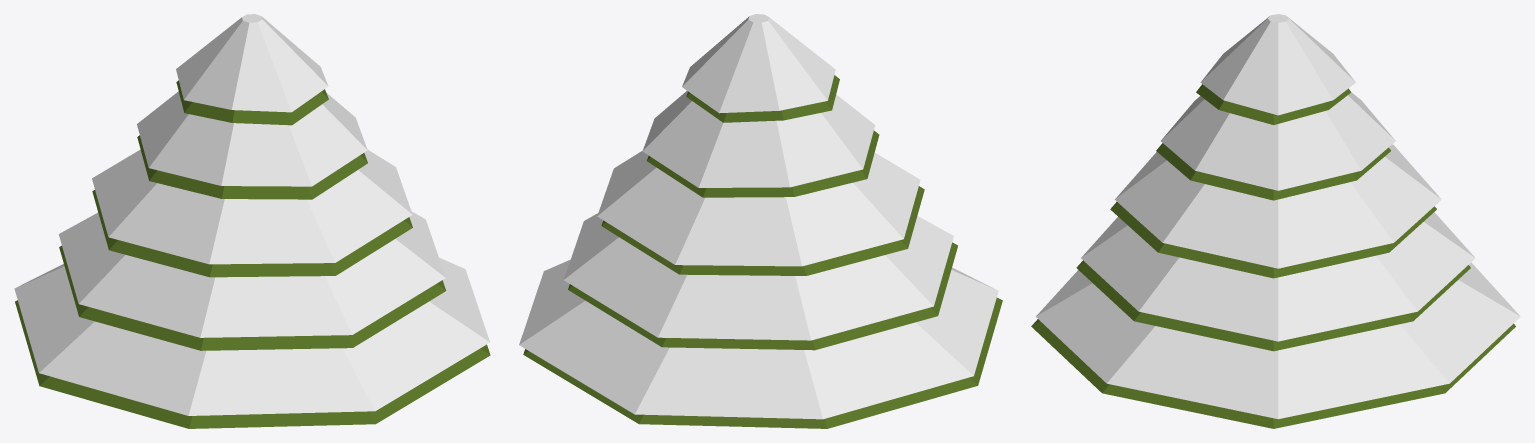
Rendered from SwierkZima.fbx.
The picture shows the model from 3 angles, left to right: view 1: azimuth 30°, elevation 25°; view 2: azimuth 150°, elevation 25°; view 3: azimuth 270°, elevation 25°; orthographic projection. The views are drawn at different scales.
Parts seen in each view (by area): view 1: SwierkZima; view 2: SwierkZima; view 3: SwierkZima.
Boxes of the visible parts, left/top/right/bottom form: SwierkZima: left=14, top=14, right=490, bottom=428; SwierkZima: left=519, top=14, right=1002, bottom=428; SwierkZima: left=1031, top=14, right=1520, bottom=428.
Bounding box in the file's own units: 302 × 244 × 303.
